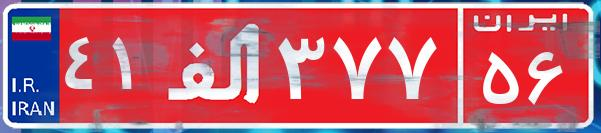1: (110, 28, 158, 105)
3: (273, 28, 330, 110)
4: (57, 26, 110, 107)
5: (475, 38, 525, 113)
6: (525, 38, 570, 115)
7: (385, 28, 445, 110), (330, 28, 385, 110)
الف: (158, 15, 273, 115)
